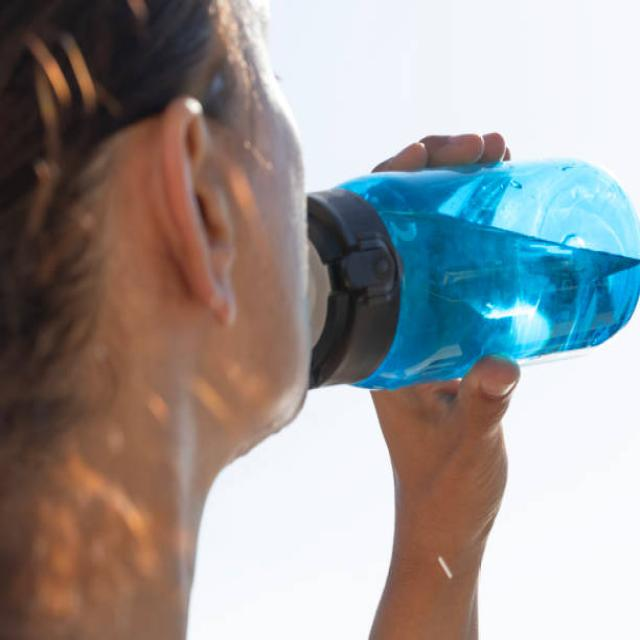blue_bottle: (308, 152, 640, 387)
